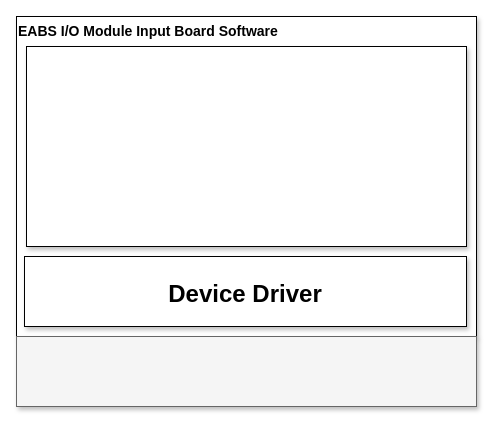
This 493x423 diagram has some shape labels left out. The centre of each missing label's shape, as x and y in pixels:
"EABS I/O Module Input Board Application" belongs at point (247, 148).
"H/W" belongs at point (247, 373).
